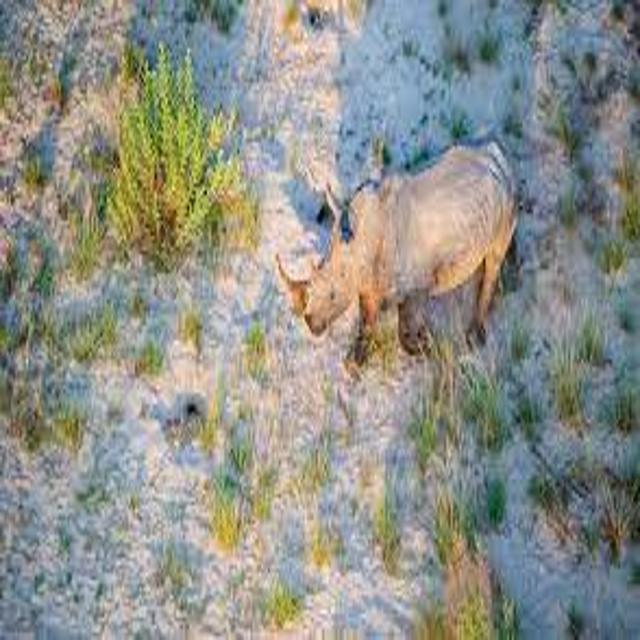Rinoceros: (268, 134, 536, 360)
